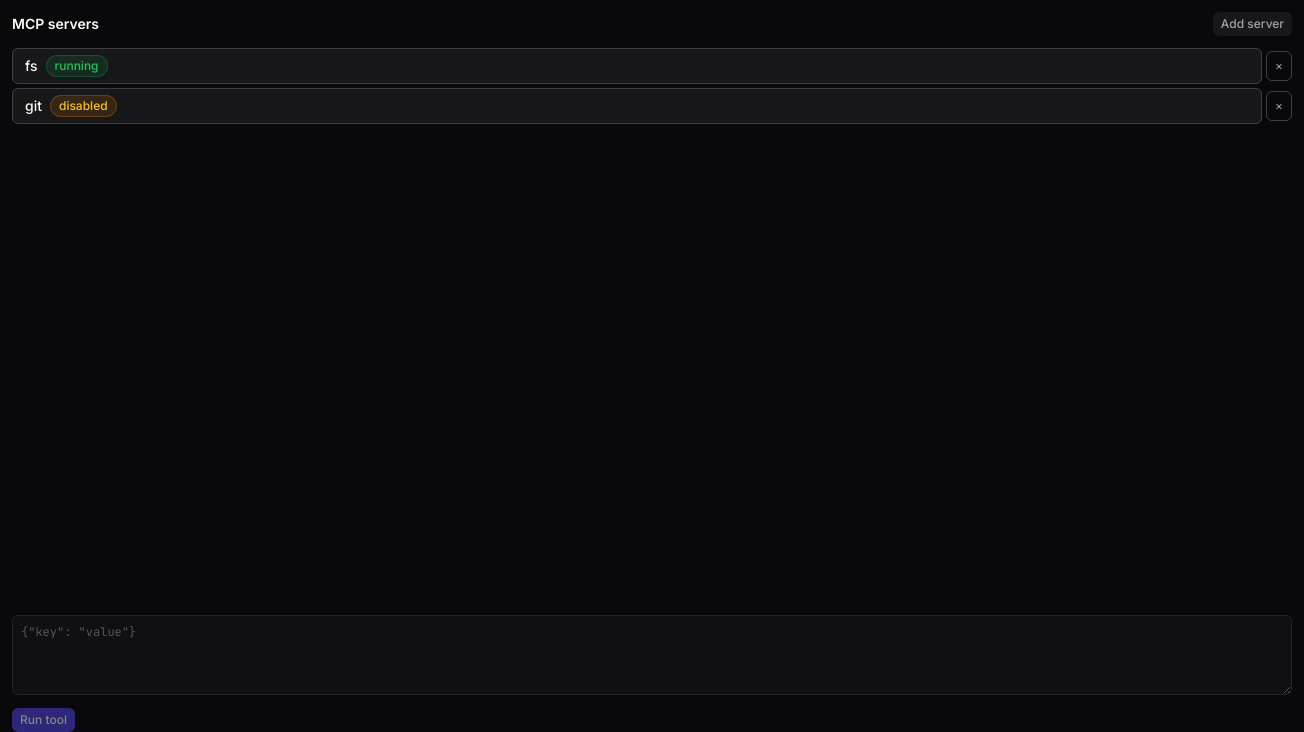
McpPlayground (Fase D + deny-by-default) › runs the selected tool with empty input as {} and shows the result
Click the button with test id "mcp-server". click: x=77, y=66
box: [12,48,1262,84]
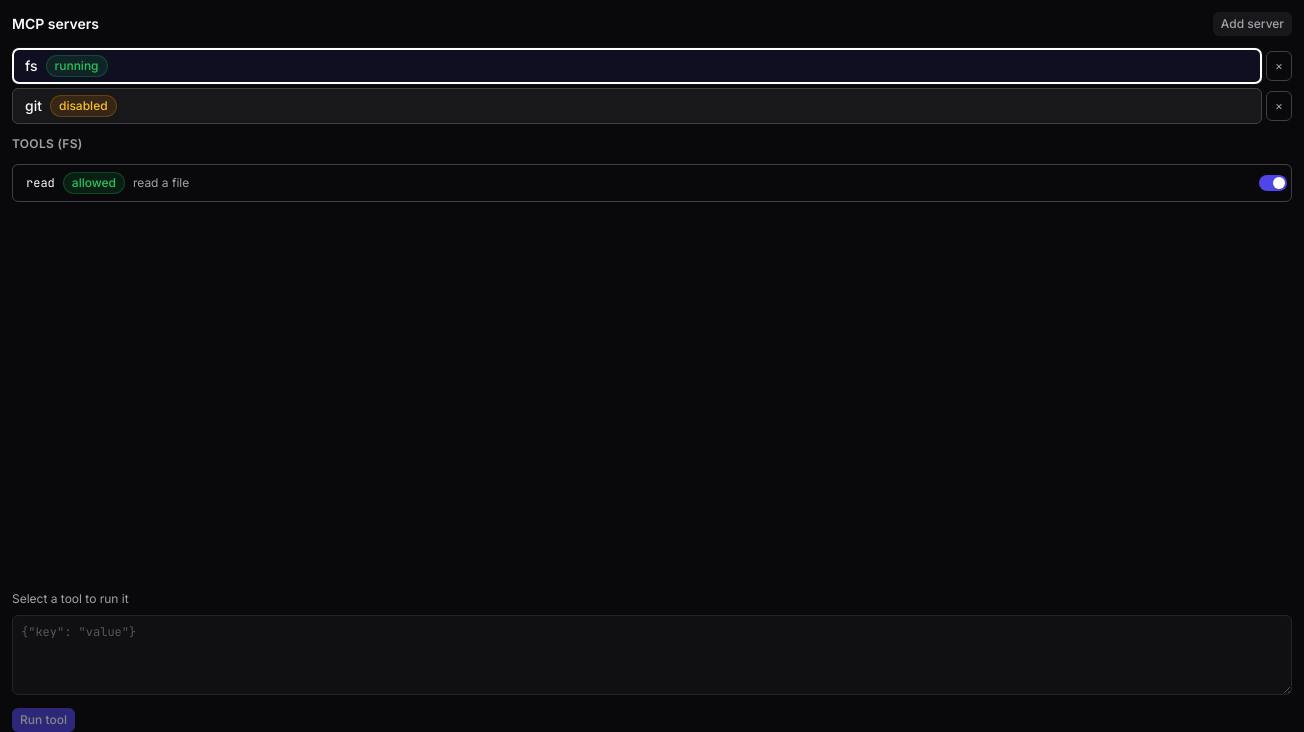
expect the text "read" is shown: met, box [26,175,55,191]
Click the button with test id "mcp-tool". click: x=94, y=183
box: [13,165,1251,201]
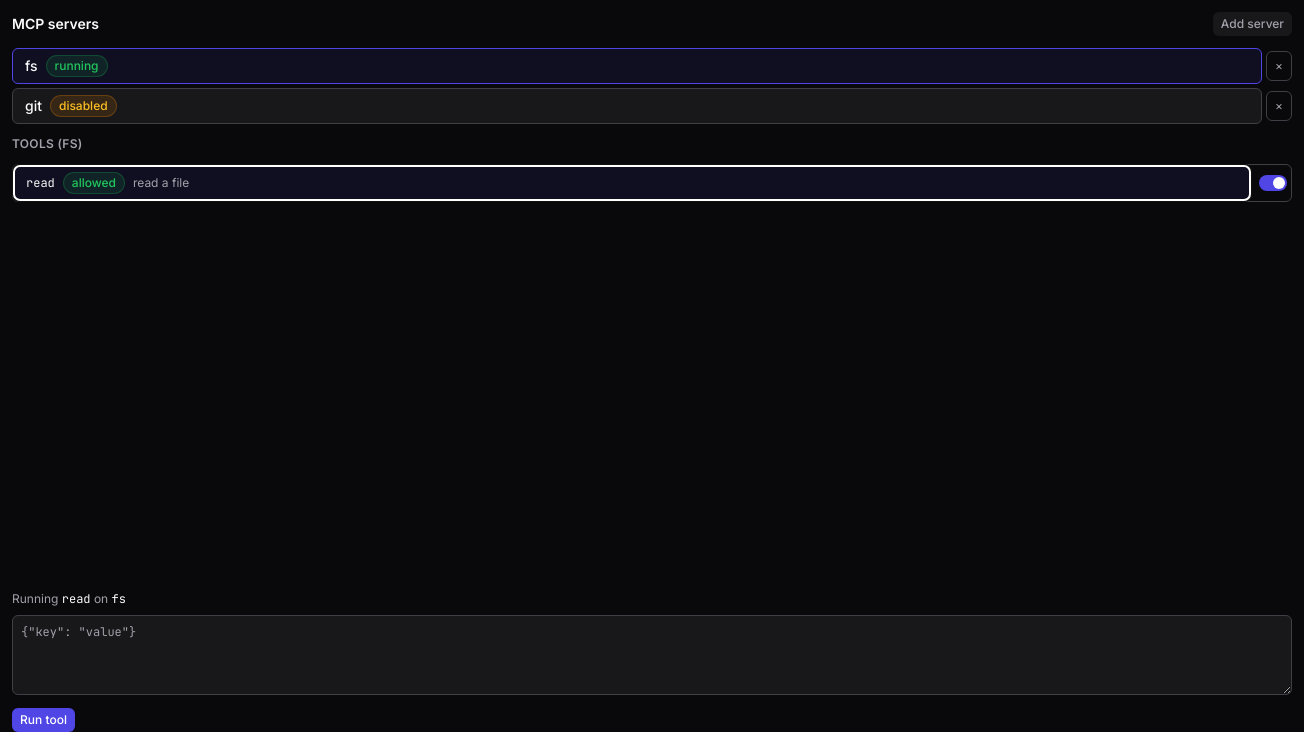
Click the button "Run tool". click: x=43, y=720
box: [12,708,75,731]
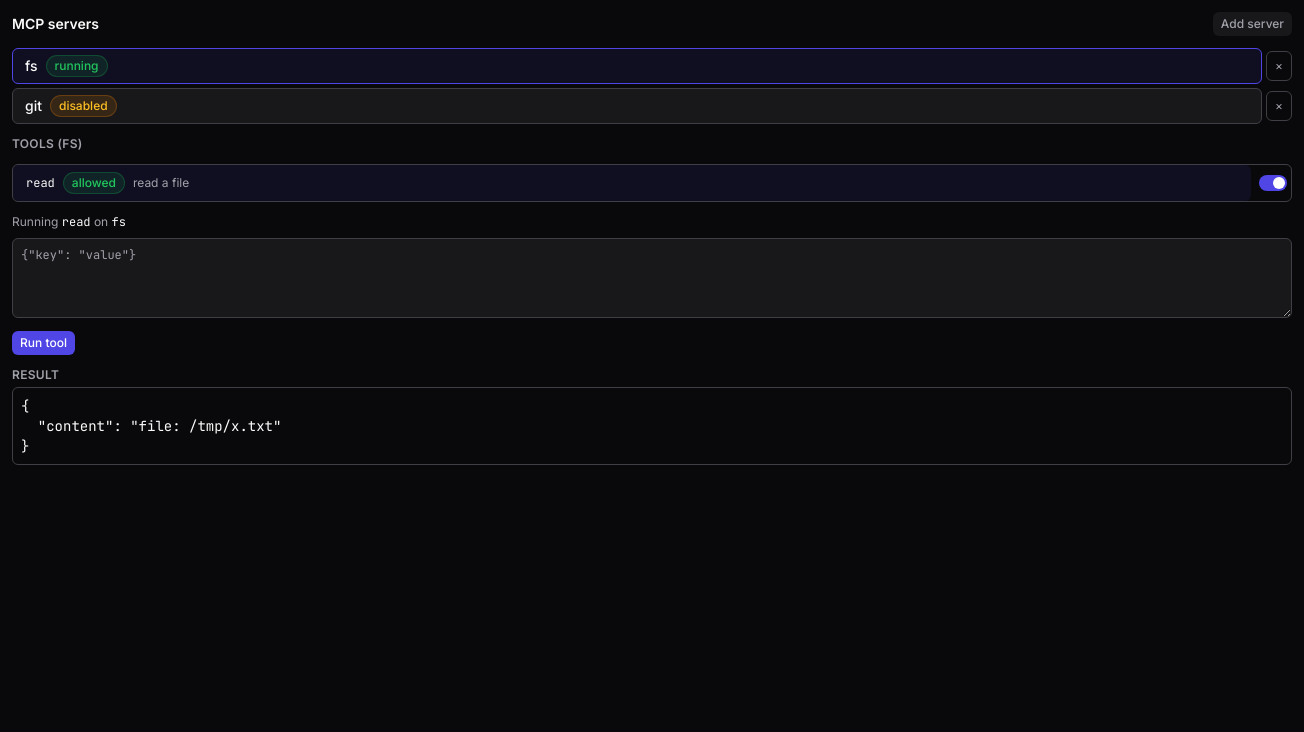
expect the text with test id "mcp-result" shows "file: /tmp/x.txt": met, box [21,397,281,455]
